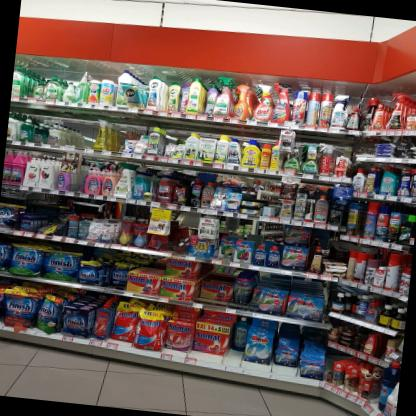empty_space: (190, 350, 221, 368), (107, 336, 134, 353), (228, 343, 243, 373), (272, 364, 298, 379), (244, 360, 270, 374), (83, 126, 93, 149), (71, 133, 84, 149)
